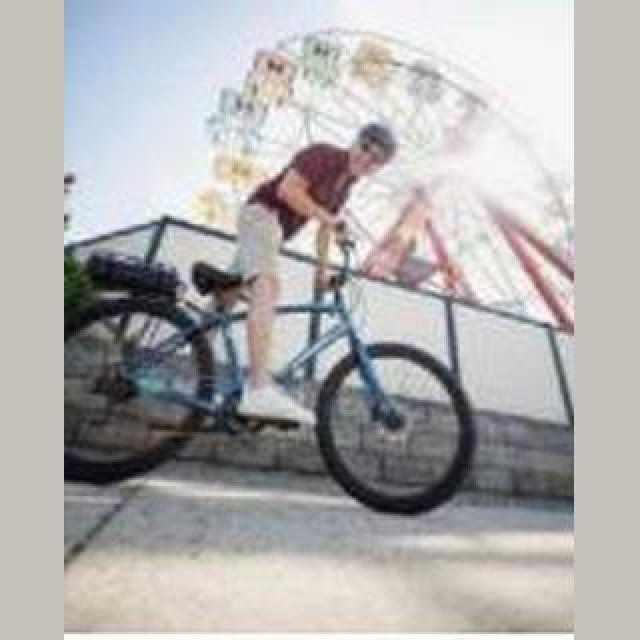MC-Bike: (208, 116, 404, 428)
Person: (64, 230, 480, 518)
